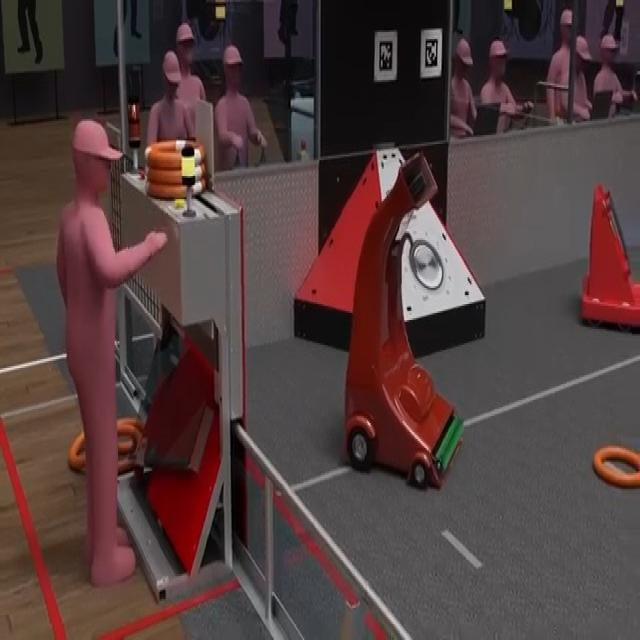notes: (595, 447, 640, 491)
